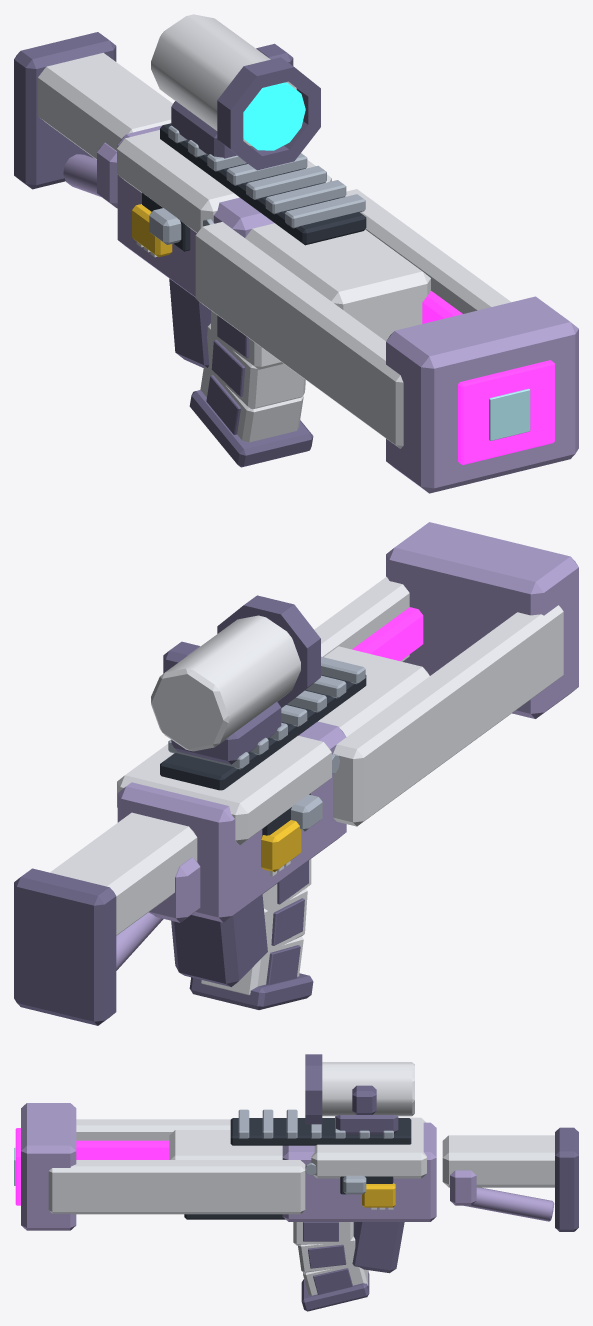
The model's file is Future_Beam_v001.fbx.
The picture shows the model from 3 angles, top to bottom: view 1: azimuth 30°, elevation 25°; view 2: azimuth 150°, elevation 25°; view 3: azimuth 270°, elevation 25°; orthographic projection. The views are drawn at different scales.
Parts seen in each view (by area): view 1: Future_Beam__RECEIVER_MESH, Future_Beam__MAGAZINE_MESH; view 2: Future_Beam__RECEIVER_MESH, Future_Beam__MAGAZINE_MESH; view 3: Future_Beam__RECEIVER_MESH, Future_Beam__MAGAZINE_MESH.
Part boxes in pixels (left/top/right/bottom): Future_Beam__RECEIVER_MESH: left=14, top=14, right=578, bottom=493; Future_Beam__MAGAZINE_MESH: left=189, top=310, right=313, bottom=467; Future_Beam__RECEIVER_MESH: left=14, top=522, right=578, bottom=1025; Future_Beam__MAGAZINE_MESH: left=189, top=859, right=313, bottom=1009; Future_Beam__RECEIVER_MESH: left=14, top=1054, right=578, bottom=1273; Future_Beam__MAGAZINE_MESH: left=293, top=1222, right=369, bottom=1311.
Size of the model in its own units: 0.5 by 1.11 by 2.34.
